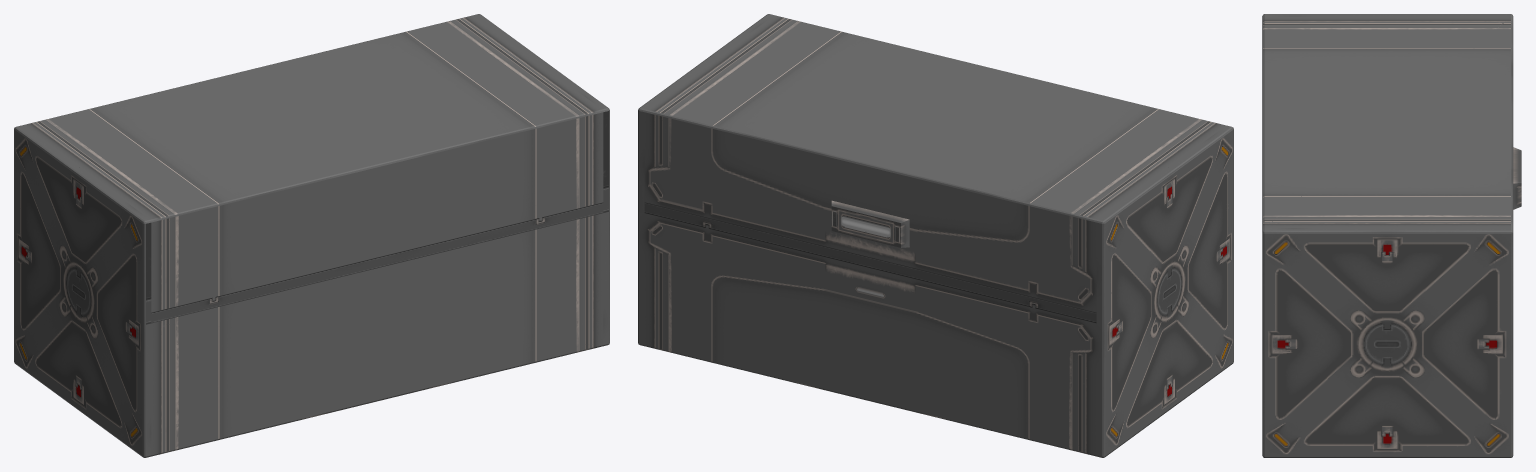
The model's file is chest.glb.
3 renders of one model, left to right at view 1: azimuth 30°, elevation 25°; view 2: azimuth 150°, elevation 25°; view 3: azimuth 270°, elevation 25°, orthographic. The views are drawn at different scales.
Visible parts, largest first — view 1: lid, chest; view 2: lid, chest; view 3: chest, lid.
Part boxes in pixels (x1,y1,x2,y2): lid: (22, 15, 603, 323); chest: (14, 14, 609, 457); lid: (644, 15, 1225, 323); chest: (638, 14, 1233, 457); chest: (1262, 14, 1513, 457); lid: (1262, 16, 1521, 229).
Size of the model in its own units: 1.5 by 0.729 by 0.753.
Materials: 2 (2 with a texture image).
